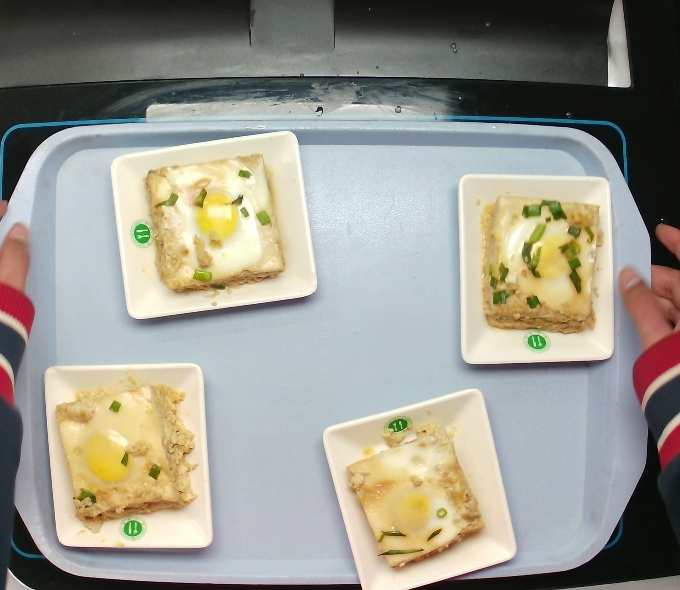wcq-RouMoZhengDan: (329, 405, 497, 583), (470, 175, 606, 352), (54, 375, 209, 528), (130, 155, 292, 300)
